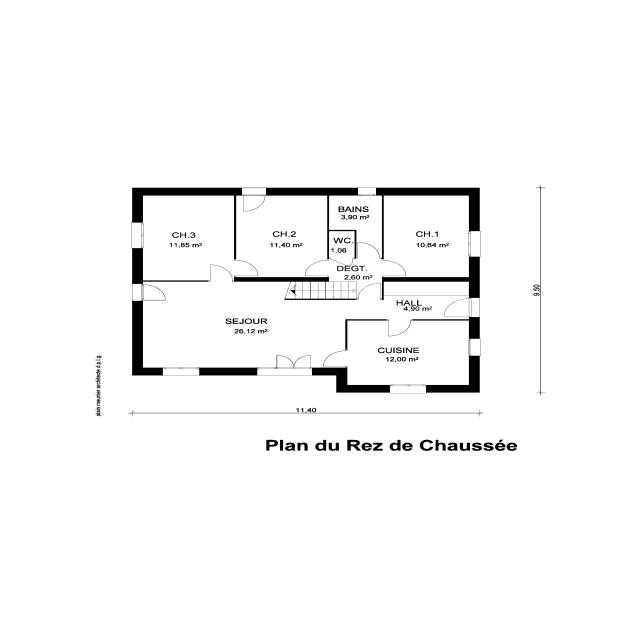door: (238, 190, 270, 214), (442, 297, 476, 319), (140, 282, 175, 302), (270, 354, 316, 369), (205, 262, 236, 282), (321, 348, 349, 368), (232, 258, 262, 276), (380, 258, 410, 276), (356, 281, 384, 300), (302, 258, 331, 276), (386, 318, 412, 337), (356, 241, 380, 259), (354, 186, 380, 197)
window: (384, 382, 431, 394), (158, 366, 205, 378), (466, 228, 482, 260), (130, 221, 145, 250), (466, 336, 482, 359), (468, 294, 482, 320), (355, 186, 379, 196)
zone: (142, 280, 348, 370), (344, 321, 473, 388), (138, 193, 236, 281), (382, 193, 474, 278), (234, 195, 328, 278), (354, 279, 473, 320), (327, 195, 384, 230), (327, 230, 356, 260)
